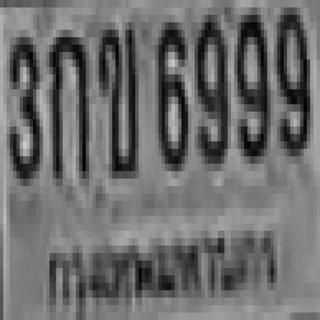A01: (46, 26, 86, 175)
A02: (96, 22, 135, 171)
N03: (6, 30, 40, 179)
N06: (155, 15, 185, 164)
N09: (234, 7, 267, 156), (193, 11, 226, 160), (276, 4, 308, 153)
P04: (40, 225, 282, 320)
